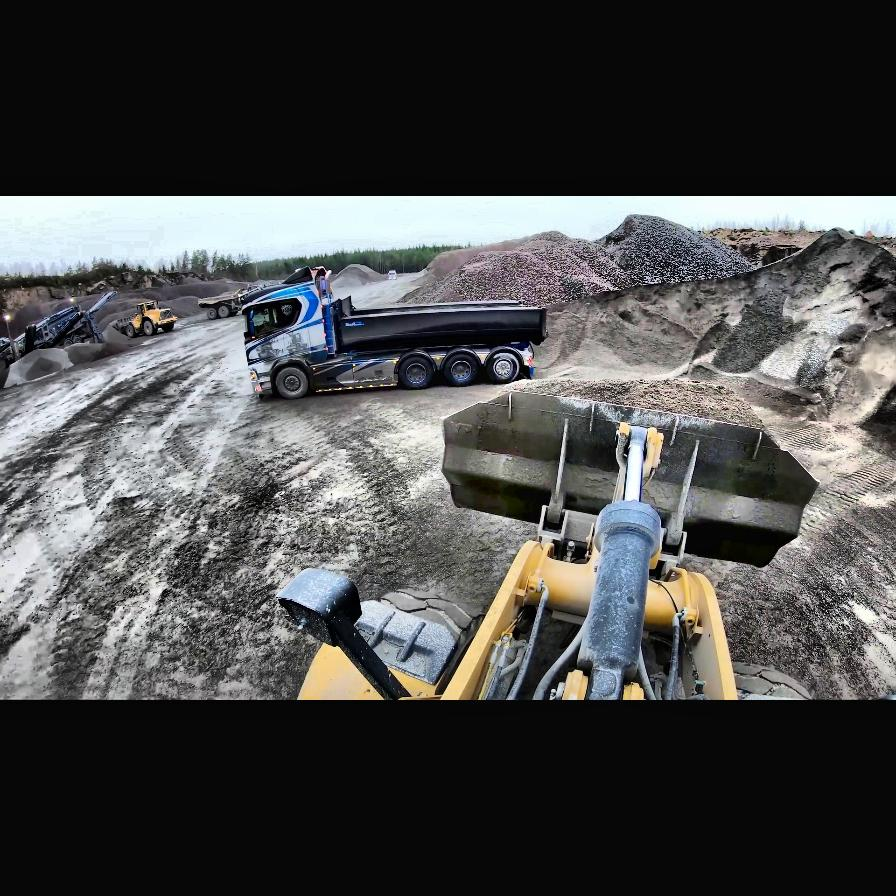anchor: (616, 424, 666, 496)
pile of gravel: (524, 224, 896, 422), (391, 216, 757, 310), (2, 270, 256, 340), (0, 343, 128, 389), (330, 263, 388, 285)
